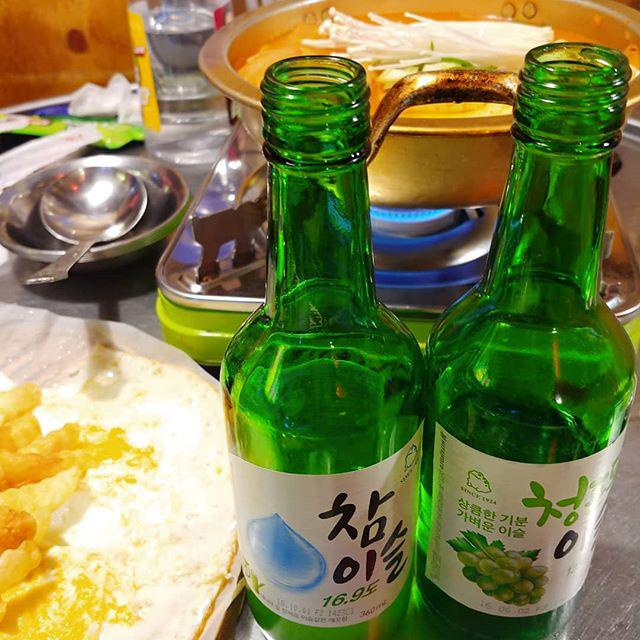soju: (214, 38, 635, 635)
